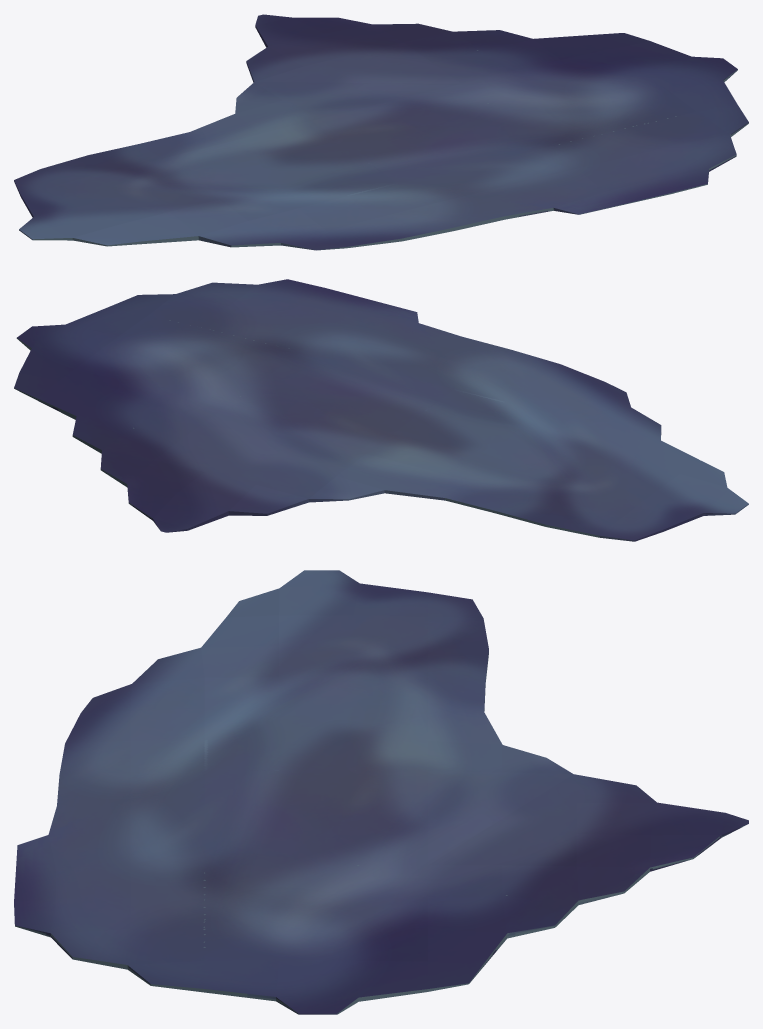
The model's file is PuddleA.fbx.
3 renders of one model, top to bottom at view 1: azimuth 30°, elevation 25°; view 2: azimuth 150°, elevation 25°; view 3: azimuth 270°, elevation 25°, orthographic. The views are drawn at different scales.
Visible parts, largest first — view 1: PuddleA; view 2: PuddleA; view 3: PuddleA.
Part boxes in pixels (bbox=[...]): PuddleA: bbox=[14, 14, 748, 250]; PuddleA: bbox=[14, 279, 748, 541]; PuddleA: bbox=[14, 570, 748, 1014].
Bounding box in the file's own units: 117 × 81.83 × 1.47.
